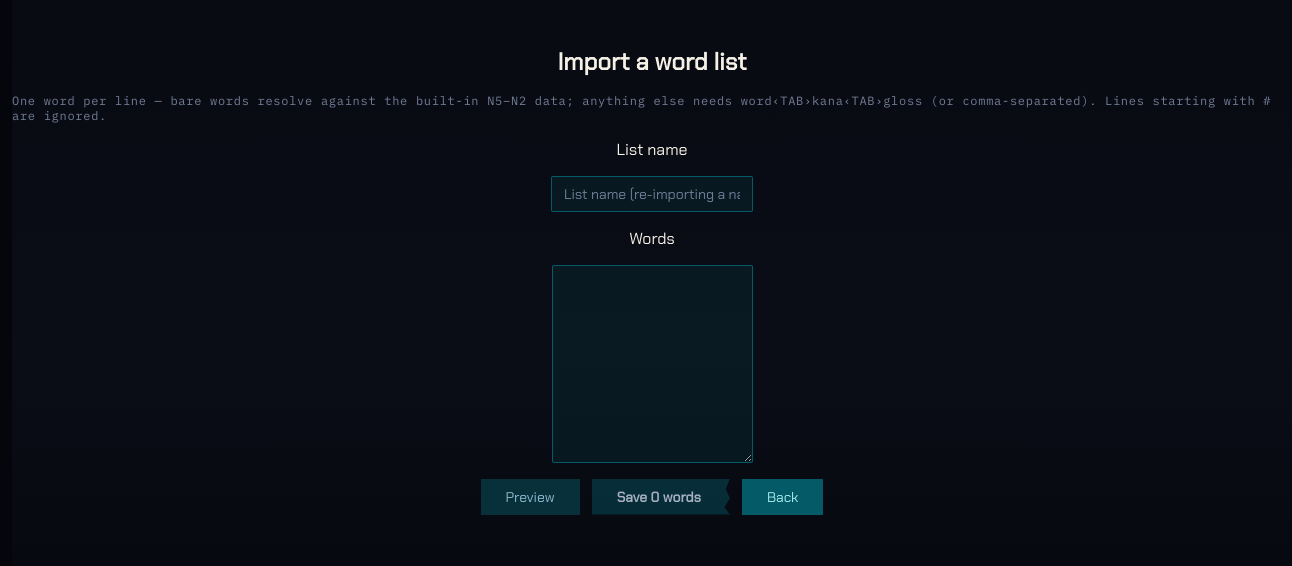
ImportScreen › preview works under StrictMode (dev-mode effect double-invocation must not poison the teardown guard)
The image size is (1292, 566).
Type "犬" into the text box with test id "import-text" at (652, 364), box x1=552 y1=264 x2=752 y2=462
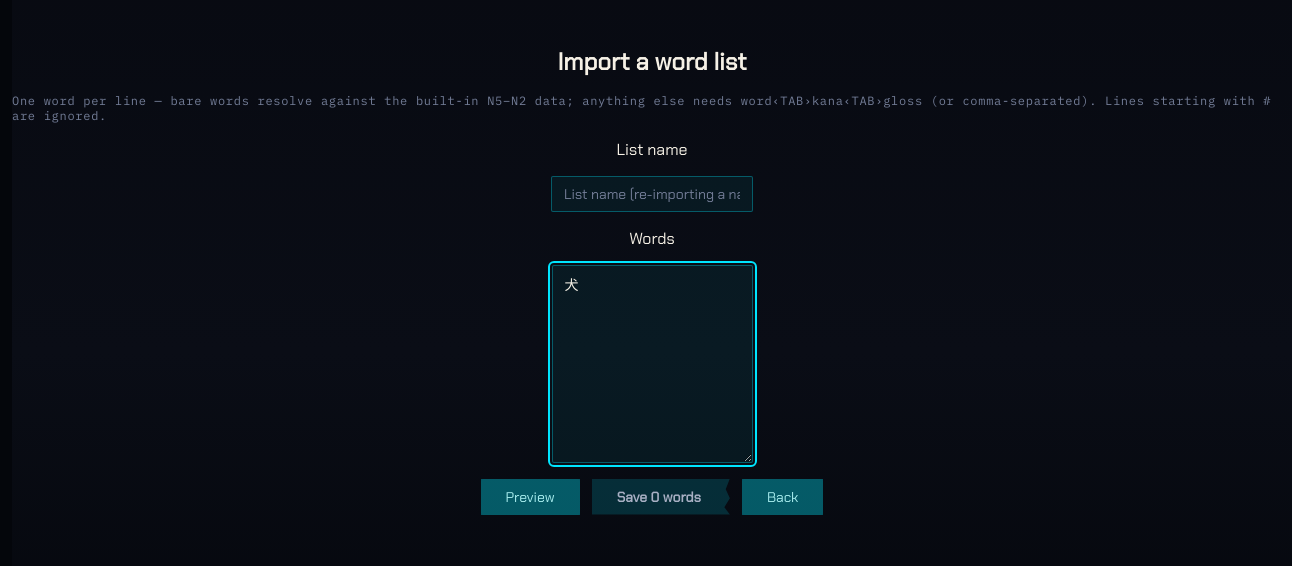
Click the button with test id "preview-button" at (530, 496), box x1=480 y1=478 x2=580 y2=514
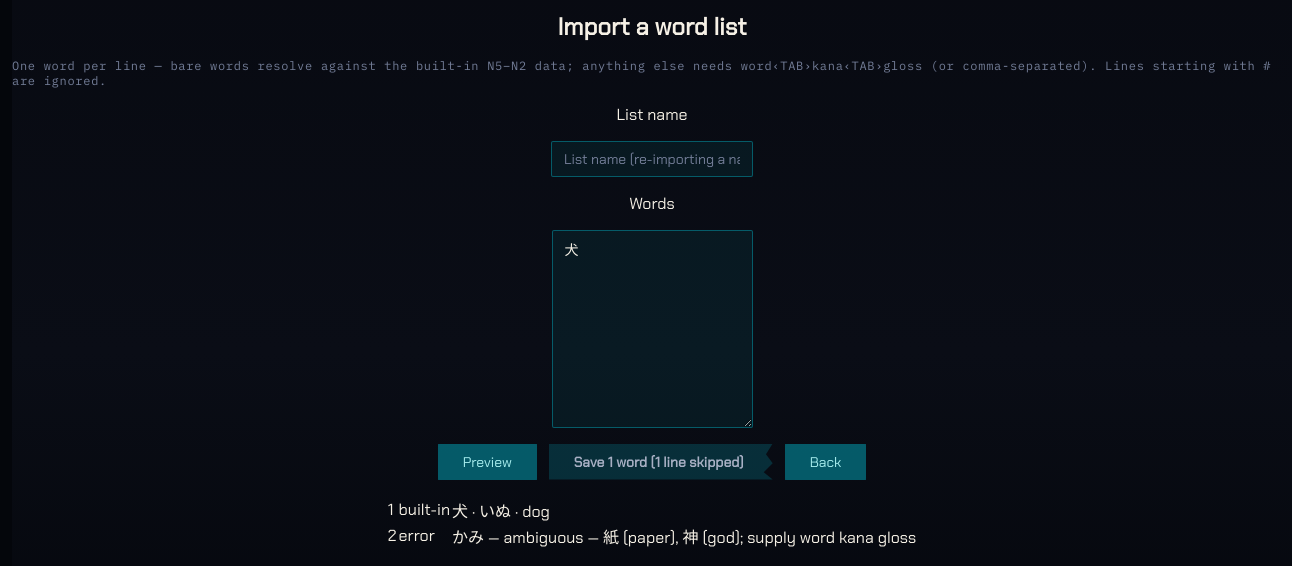
Check: the table with test id "preview-table" is shown, box x1=386 y1=496 x2=918 y2=550
